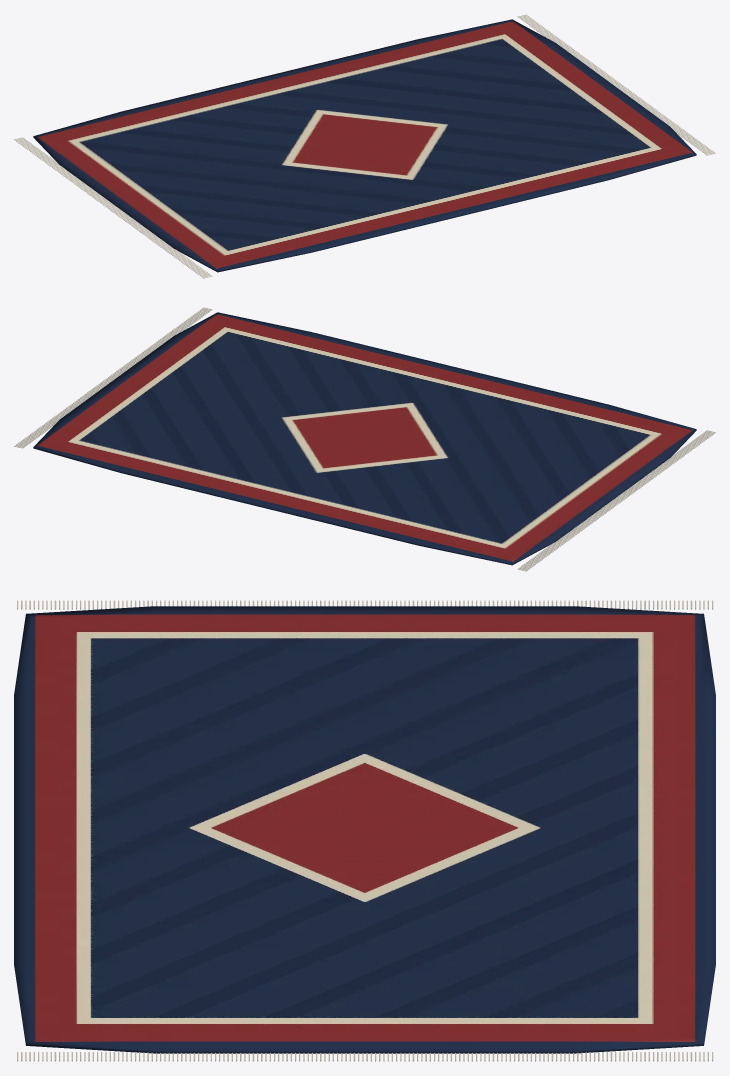
The model's file is persian-navy.glb.
3 views of the same model, one above another, from view 1: azimuth 30°, elevation 25°; view 2: azimuth 150°, elevation 25°; view 3: azimuth 270°, elevation 25° (orthographic). The views are drawn at different scales.
Visible parts, largest first — view 1: rug_wool, fringe_cotton; view 2: rug_wool, fringe_cotton; view 3: rug_wool, fringe_cotton.
Boxes of the visible parts, x1=… form: rug_wool: x1=33, y1=19, x2=696, y2=272; fringe_cotton: x1=14, y1=14, x2=715, y2=278; rug_wool: x1=33, y1=312, x2=696, y2=565; fringe_cotton: x1=14, y1=307, x2=715, y2=571; rug_wool: x1=14, y1=606, x2=715, y2=1053; fringe_cotton: x1=17, y1=600, x2=713, y2=1061.
Size of the model in its own units: 3.1 by 0.0121 by 2.
2 materials, 2 textured.
